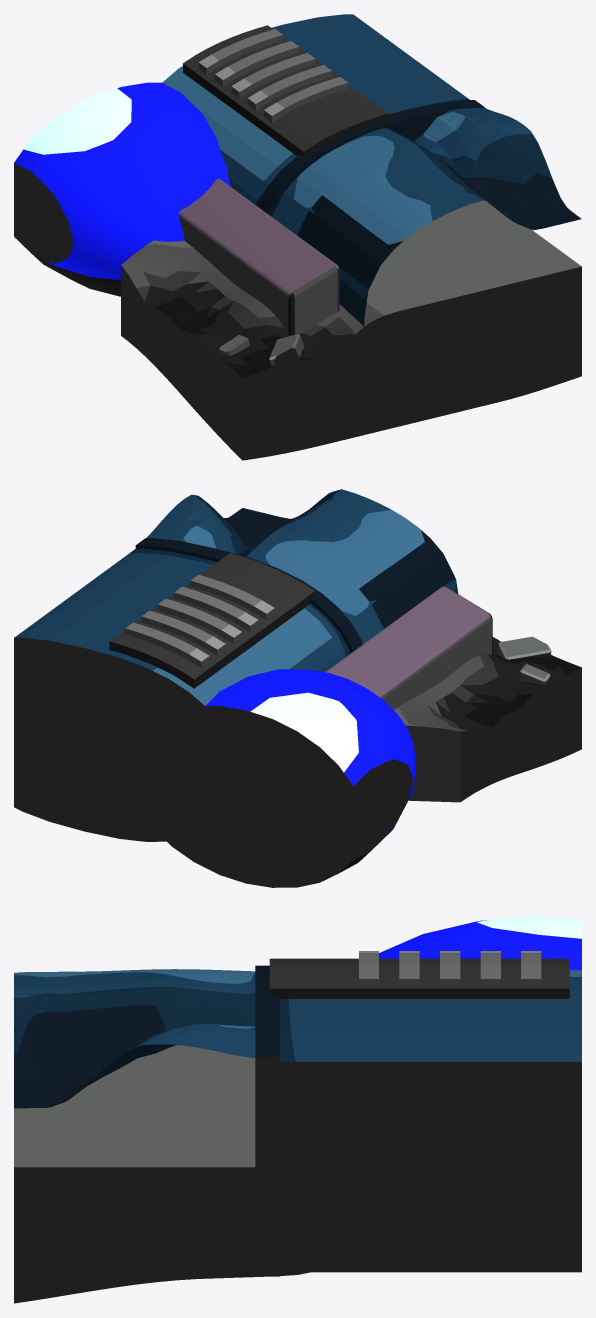
File: camanis_boss_89.glb
The picture shows the model from 3 angles, top to bottom: view 1: azimuth 30°, elevation 25°; view 2: azimuth 150°, elevation 25°; view 3: azimuth 270°, elevation 25°; orthographic projection. The views are drawn at different scales.
Parts seen in each view (by area): view 1: camanis_boss_89; view 2: camanis_boss_89; view 3: camanis_boss_89.
Boxes of the visible parts, <box> form: camanis_boss_89: <box>14,14,581,460</box>; camanis_boss_89: <box>14,489,581,887</box>; camanis_boss_89: <box>14,916,581,1303</box>.
Size of the model in its own units: 24 by 14.92 by 28.
